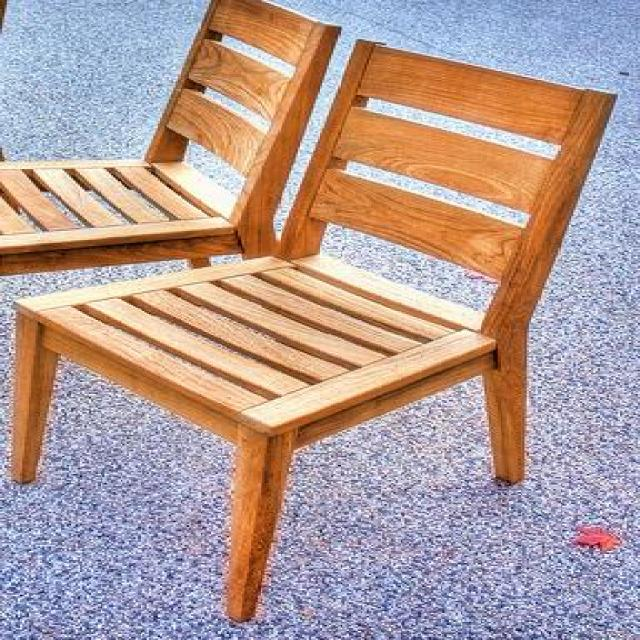chair: (6, 36, 618, 622)
